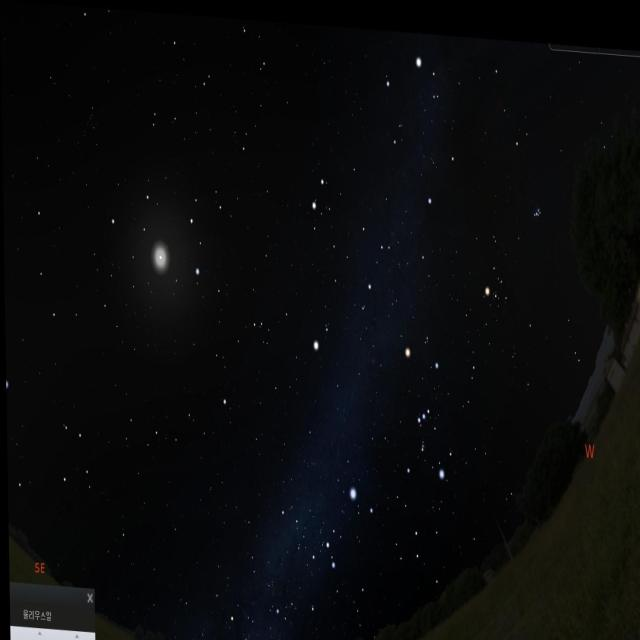canis_major: (321, 484, 378, 564)
canis_minor: (308, 311, 336, 354)
gemini: (293, 150, 399, 302)
leo: (106, 168, 214, 302)
moon: (139, 222, 181, 283)
orion: (394, 332, 454, 483)
pleiades: (527, 193, 546, 223)
taurus: (469, 175, 550, 322)
